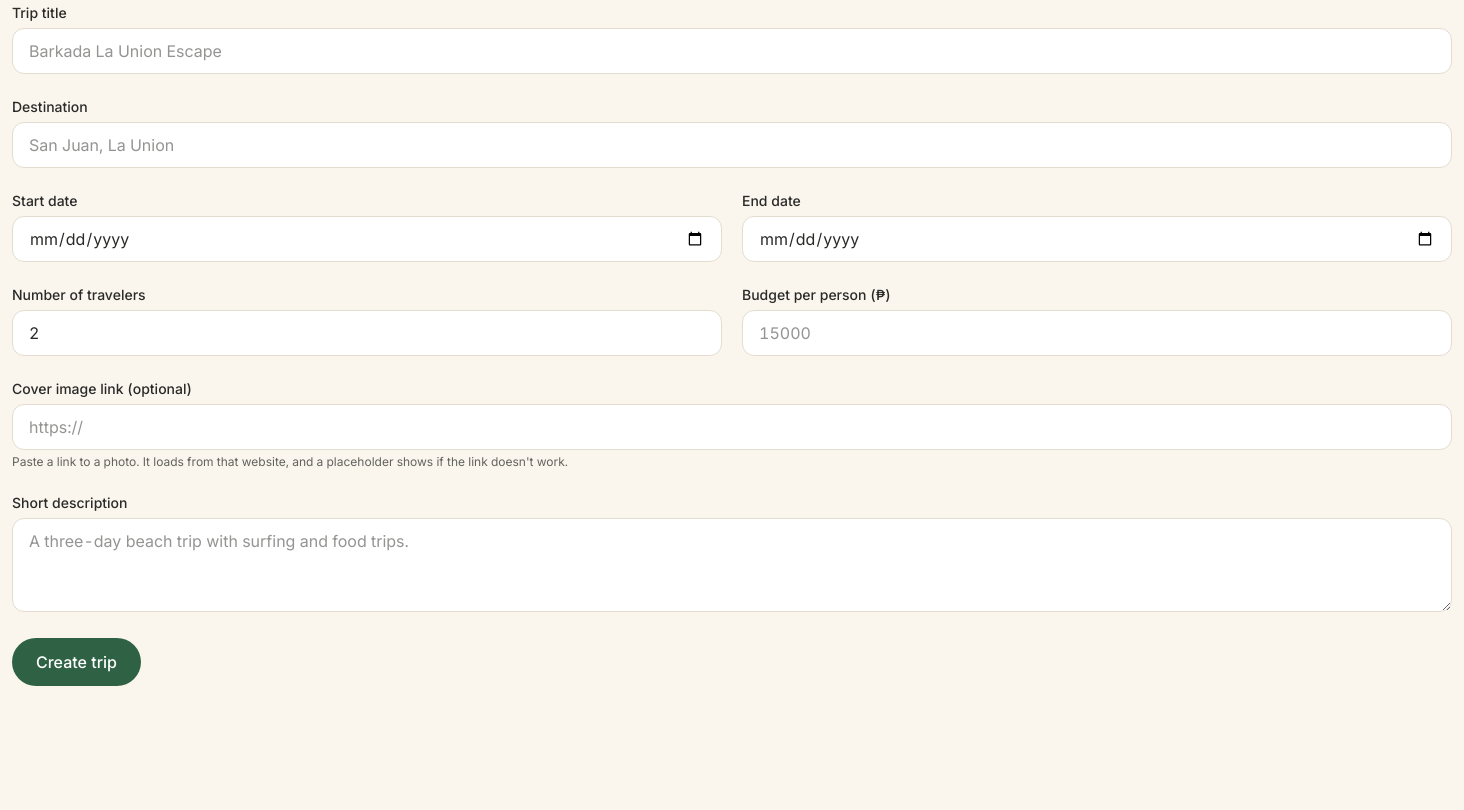
Scenario: TripForm › shows errors and does not submit when the form is empty
Click the button "Create trip": {"x": 76, "y": 662} [12, 638, 141, 686]
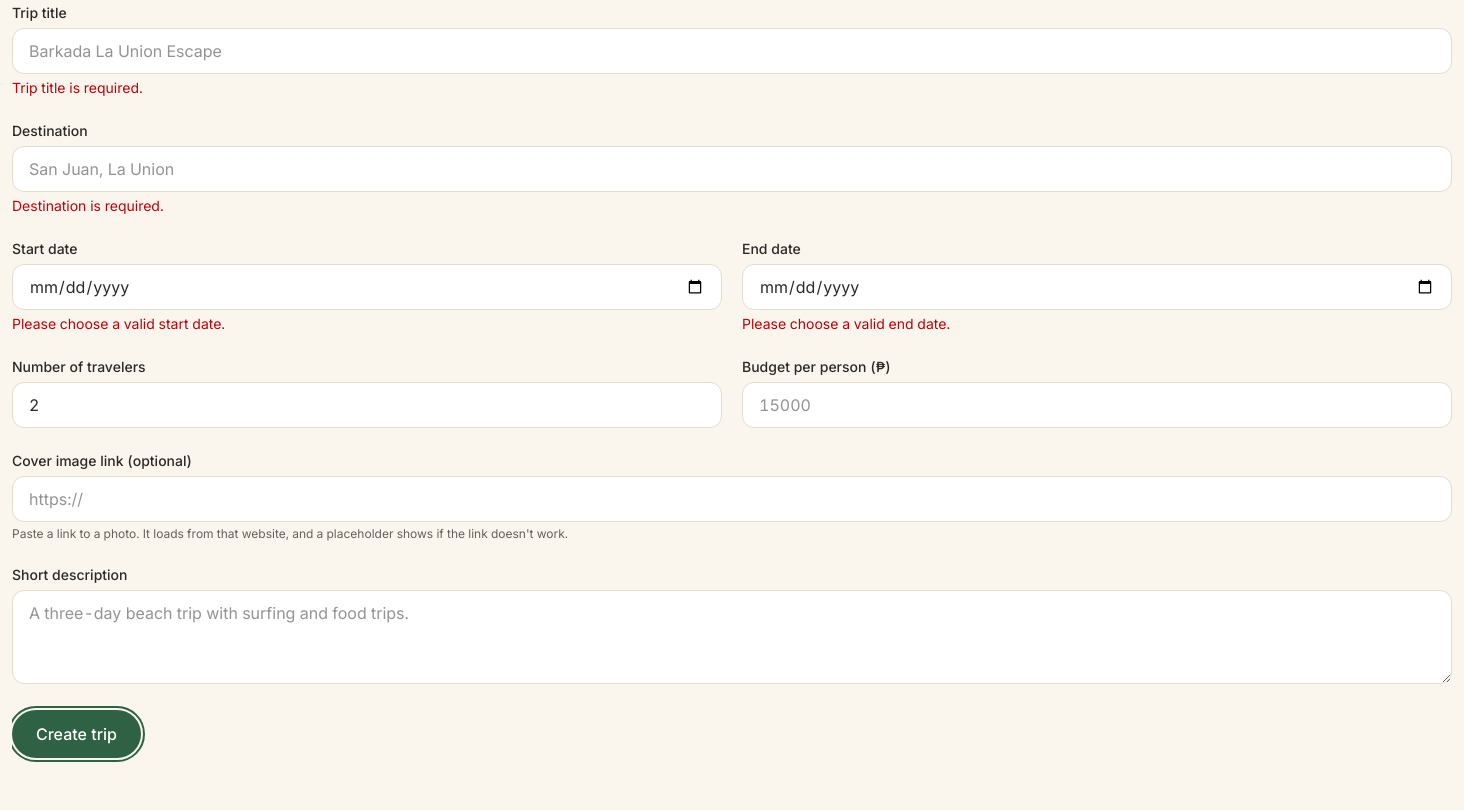
Expected: the text "Trip title is required." is shown, [12, 79, 143, 96]
Expected: the text "Destination is required." is shown, [12, 197, 164, 214]
Expected: the text "Please choose a valid start date." is shown, [12, 315, 225, 332]
